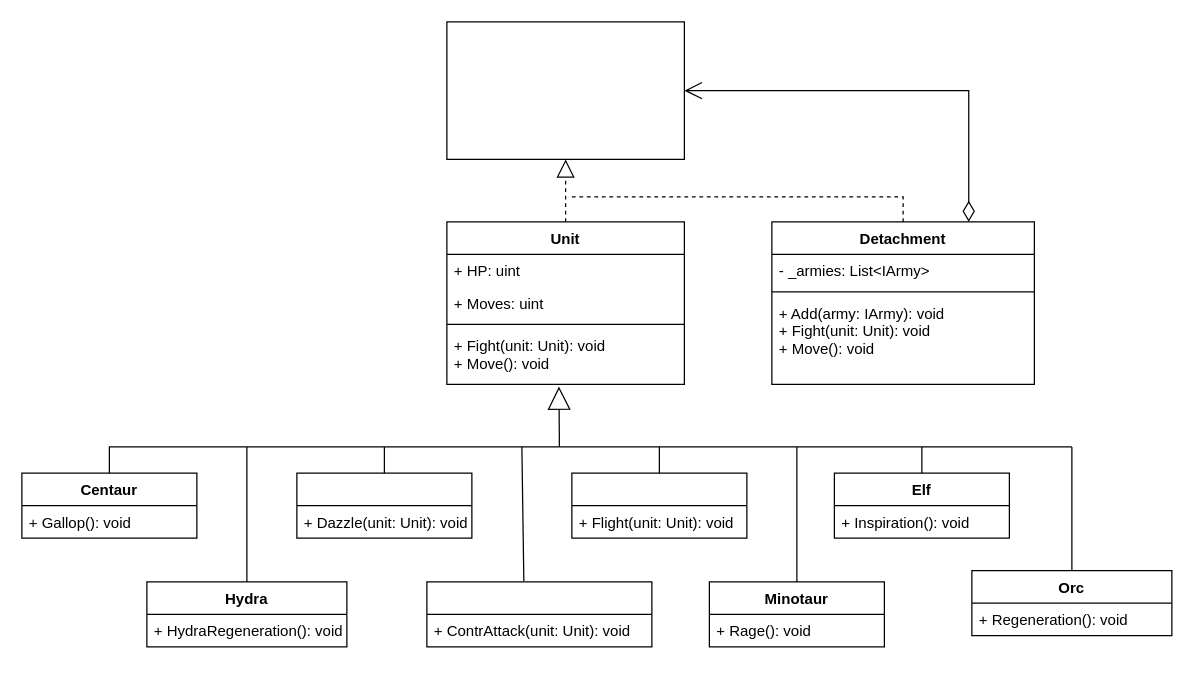
Some shapes in this 1194 by 673 pixel diagram are drawn without their labels. Here are the shapes that lost their labels. From the top down, the box of each, then its label:
(446, 21, 684, 159): <<Interface>> IArmy + Fight(unit: Unit): void + Move(): void
(296, 472, 472, 538): Cyclop
(571, 472, 747, 538): Dragon
(426, 581, 652, 647): Knight
